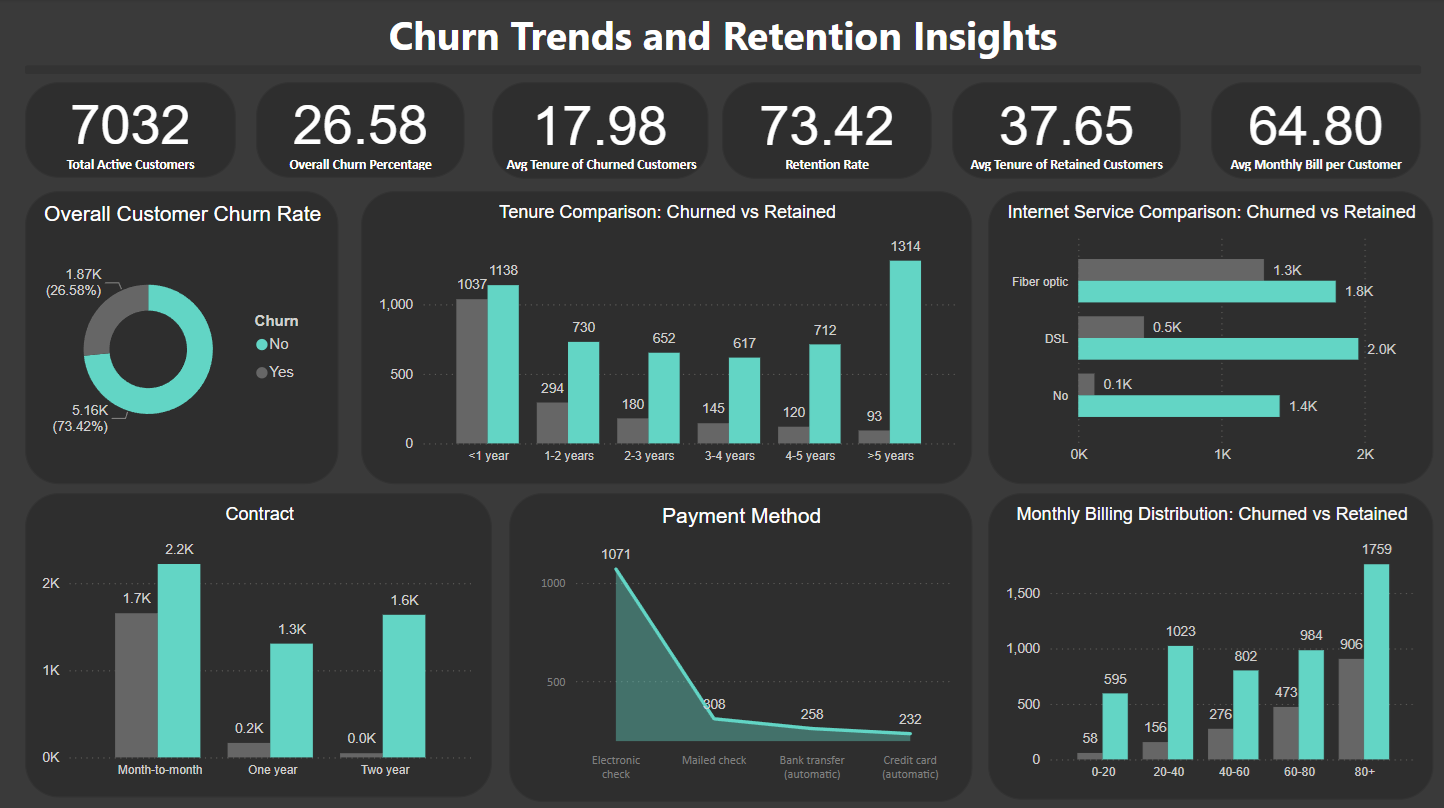

Layout of this report page (visuals, bound fields, positions):
{"tool":"powerbi","page":{"name":"Page 1","canvas":[1280,720],"ordinal":0},"visuals":[{"type":"donutChart","title":"Overall Customer Churn Rate","fields":{"Category":["cleaned_telco_churn.Churn"],"Y":["CountNonNull(cleaned_telco_churn.customerID)"]},"box":[22.2,170.2,277.5,259.8],"z":0},{"type":"clusteredColumnChart","title":"Contract","fields":{"Category":["cleaned_telco_churn.Contract"],"Y":["CountNonNull(cleaned_telco_churn.customerID)"],"Series":["cleaned_telco_churn.Churn"]},"box":[22.2,438,414.1,270.4],"z":1000},{"type":"clusteredColumnChart","title":"Tenure Comparison: Churned vs Retained","fields":{"Category":["cleaned_telco_churn.TenureGroup"],"Y":["CountNonNull(cleaned_telco_churn.customerID)"],"Series":["cleaned_telco_churn.Churn"]},"box":[320.1,170.2,541.8,259.8],"z":2000},{"type":"clusteredColumnChart","title":"Monthly Billing Distribution: Churned vs Retained","fields":{"Series":["cleaned_telco_churn.Churn"],"Y":["CountNonNull(cleaned_telco_churn.customerID)"],"Category":["cleaned_telco_churn.MonthlyChargesGroup"]},"box":[876.1,438,395.5,272.2],"z":3000},{"type":"card","fields":{"Values":["CountNonNull(cleaned_telco_churn.customerID)"]},"box":[22.2,73.6,187.1,85.1],"z":4000},{"type":"card","fields":{"Values":["cleaned_telco_churn.ChurnRate"]},"box":[227,73.6,185.3,85.1],"z":5000},{"type":"card","fields":{"Values":["Avg(cleaned_telco_churn.tenure)"]},"box":[844.1,73.6,203.1,86],"z":6000},{"type":"card","fields":{"Values":["Avg(cleaned_telco_churn.tenure)"]},"box":[436.3,73.6,191.5,86],"z":7000},{"type":"card","fields":{"Values":["cleaned_telco_churn.RetentionRate"]},"box":[640.2,73.6,186.2,86],"z":8000},{"type":"areaChart","title":"Payment Method","fields":{"Category":["cleaned_telco_churn.PaymentMethod"],"Y":["Sum(cleaned_telco_churn.Churn_encoded)"]},"box":[451.3,438,410.5,274],"z":9000},{"type":"clusteredBarChart","title":"Internet Service Comparison: Churned vs Retained","fields":{"Category":["cleaned_telco_churn.InternetService"],"Series":["cleaned_telco_churn.Churn"],"Y":["CountNonNull(cleaned_telco_churn.customerID)"]},"box":[876.1,170.2,394.6,259.8],"z":10000},{"type":"card","fields":{"Values":["Avg(cleaned_telco_churn.MonthlyCharges)"]},"box":[1073.8,73.6,186.2,86],"z":11000},{"type":"shape","title":"Churn Trends and Retention Insights","box":[22.2,8,1237.8,58.5],"z":12000}]}

Visuals, with their boxes in screenshot pixels (x1, y1, x2, y2), scaled from the page's 1280x720 canvas onto the 1444x808 screenshot:
"Overall Customer Churn Rate" donutChart: bbox(25, 191, 338, 483)
"Contract" clusteredColumnChart: bbox(25, 492, 492, 795)
"Tenure Comparison: Churned vs Retained" clusteredColumnChart: bbox(361, 191, 972, 483)
"Monthly Billing Distribution: Churned vs Retained" clusteredColumnChart: bbox(988, 492, 1435, 797)
card - CountNonNull(cleaned_telco_churn.customerID): bbox(25, 83, 236, 178)
card - cleaned_telco_churn.ChurnRate: bbox(256, 83, 465, 178)
card - Avg(cleaned_telco_churn.tenure): bbox(952, 83, 1181, 179)
card - Avg(cleaned_telco_churn.tenure): bbox(492, 83, 708, 179)
card - cleaned_telco_churn.RetentionRate: bbox(722, 83, 932, 179)
"Payment Method" areaChart: bbox(509, 492, 972, 799)
"Internet Service Comparison: Churned vs Retained" clusteredBarChart: bbox(988, 191, 1434, 483)
card - Avg(cleaned_telco_churn.MonthlyCharges): bbox(1211, 83, 1421, 179)
"Churn Trends and Retention Insights" shape: bbox(25, 9, 1421, 75)
